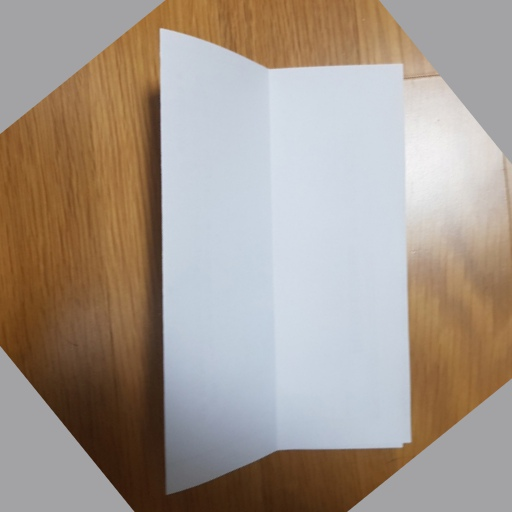Paper_3: (145, 22, 430, 503)
